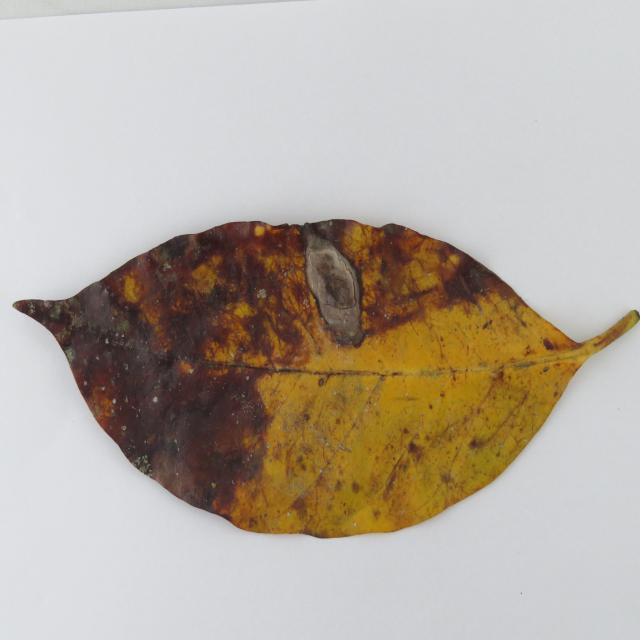DeficienciaNutricional-Fosforo: (15, 220, 639, 537)
